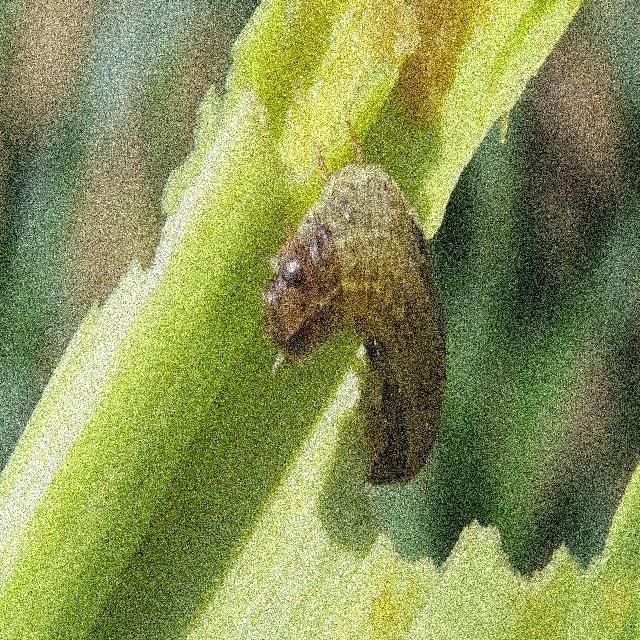Plaga: (273, 164, 445, 486)
